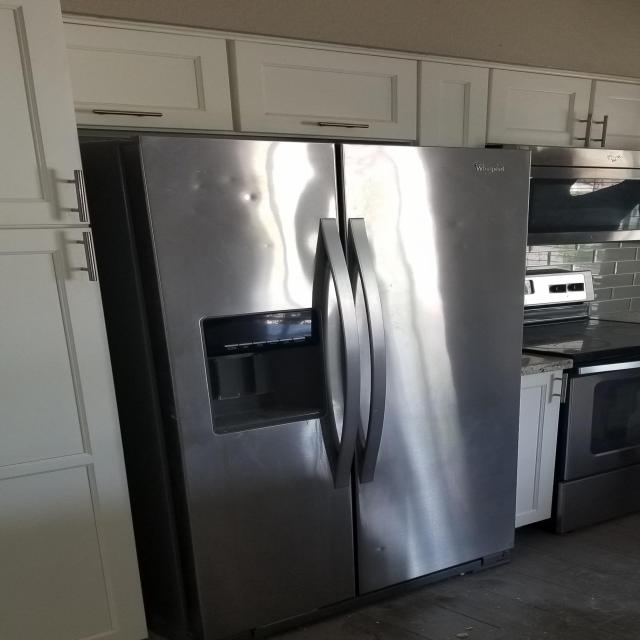dents: (204, 166, 254, 195)
